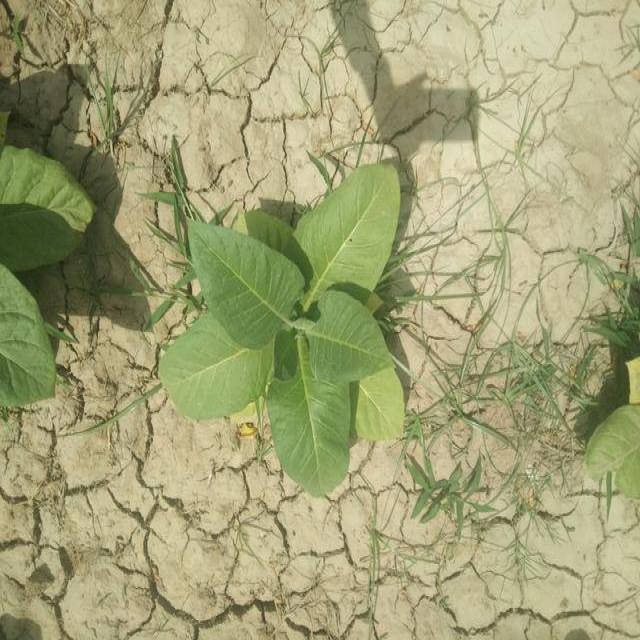crop: (163, 154, 409, 498)
